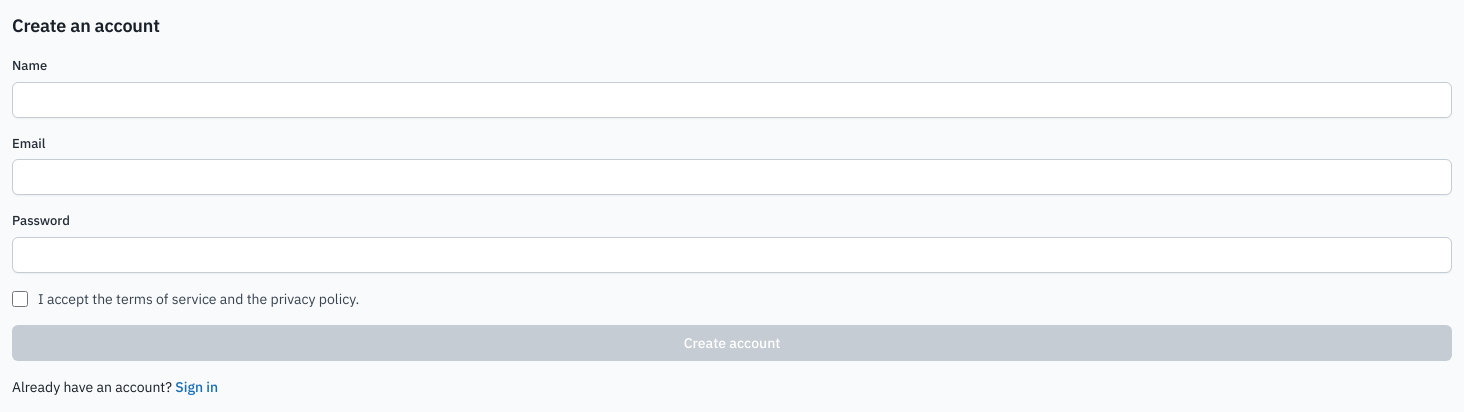
it: SignUpForm › signs up with accepted terms and shows the check-inbox message
The image size is (1464, 412).
Type "New Person" into the field labelled "Name" at coordinates (732, 100), box [12,82,1452,118]
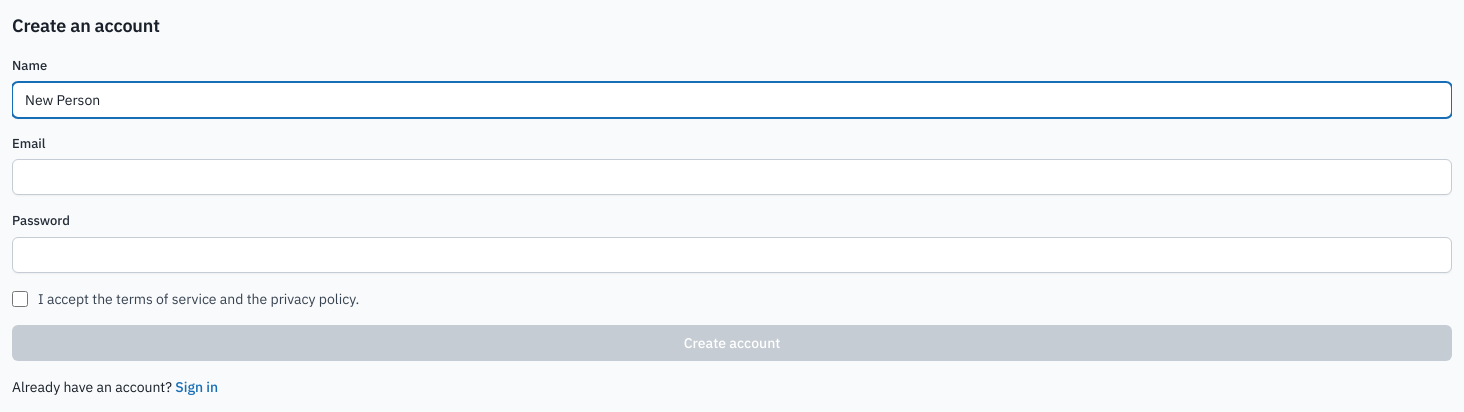
Type "new@example.com" into the field labelled "Email" at coordinates (732, 177), box [12,159,1452,195]
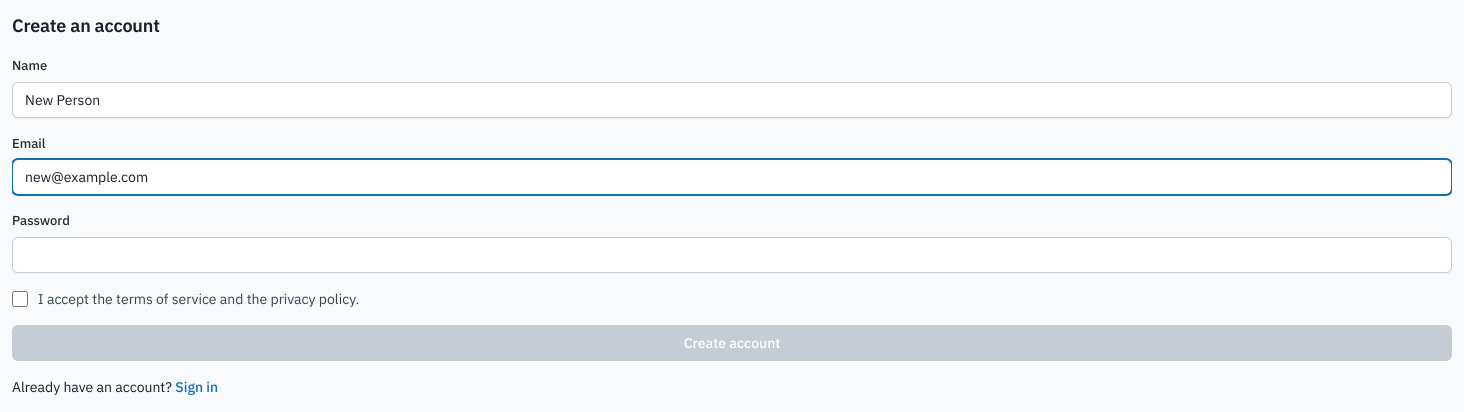
Type "a-long-password" into the password field labelled "Password" at coordinates (732, 254), box [12,236,1452,272]
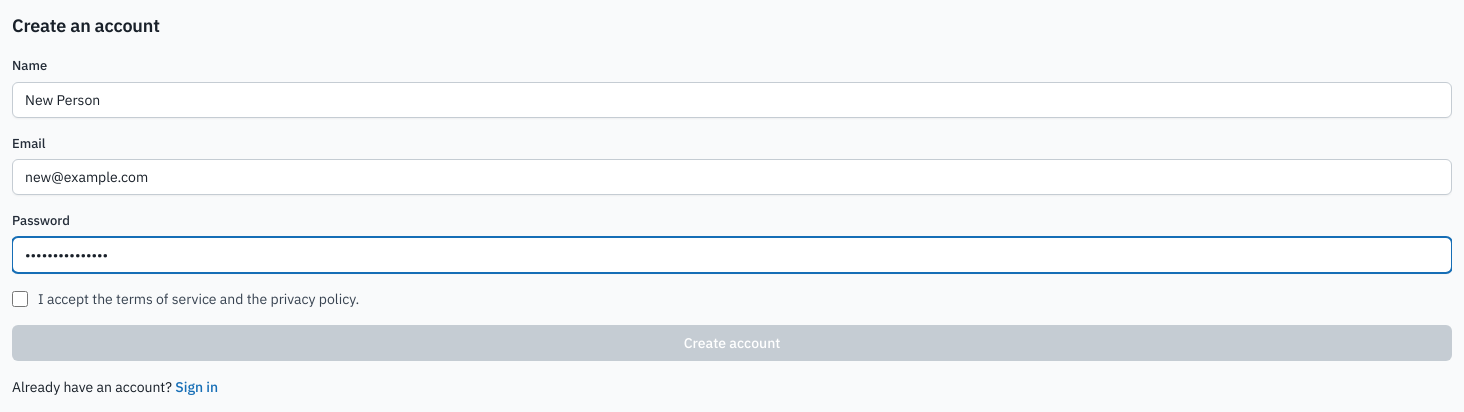
Click the checkbox at coordinates (20, 298), box [12,290,28,306]
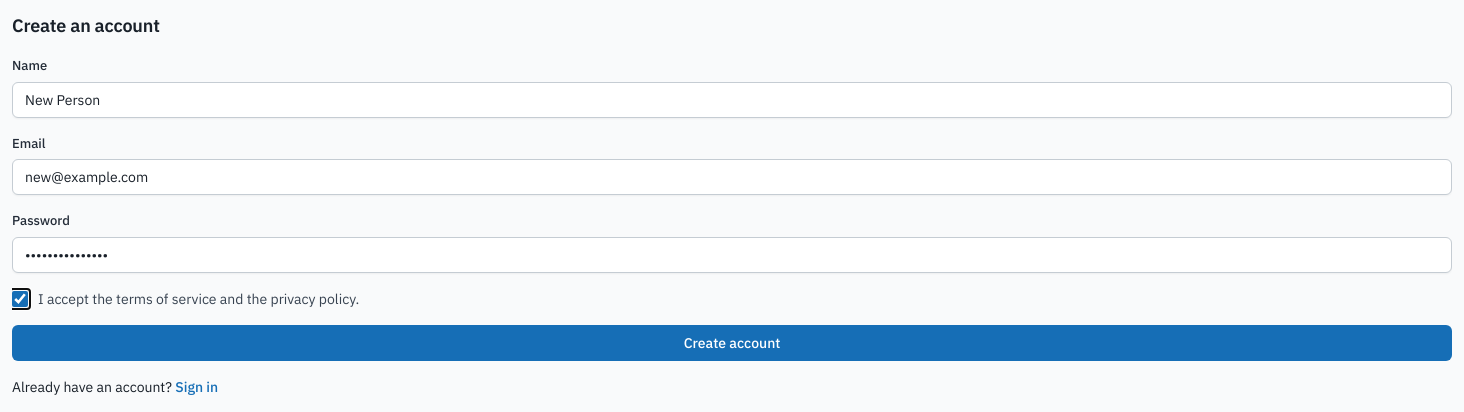
Click the button "Create account" at coordinates (732, 342), box [12,324,1452,360]
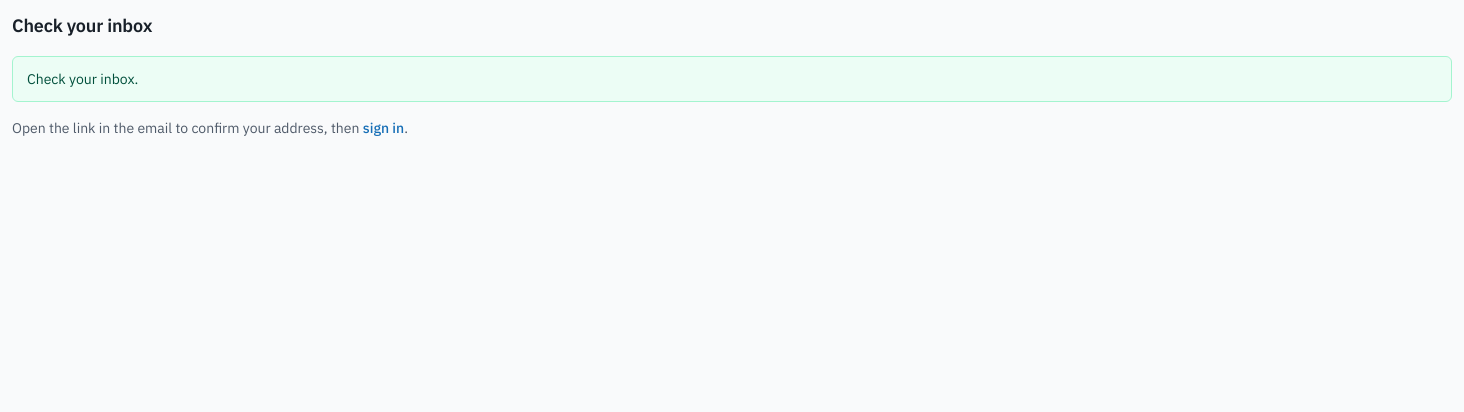
expect the message reads "Check your inbox.": met, box [27,70,138,88]
